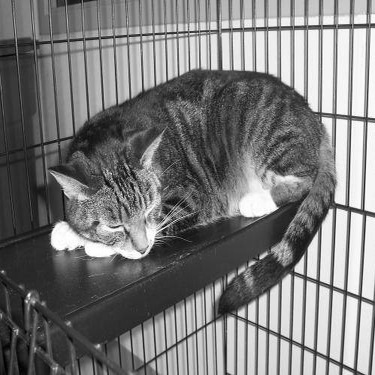cat: (35, 58, 345, 319)
